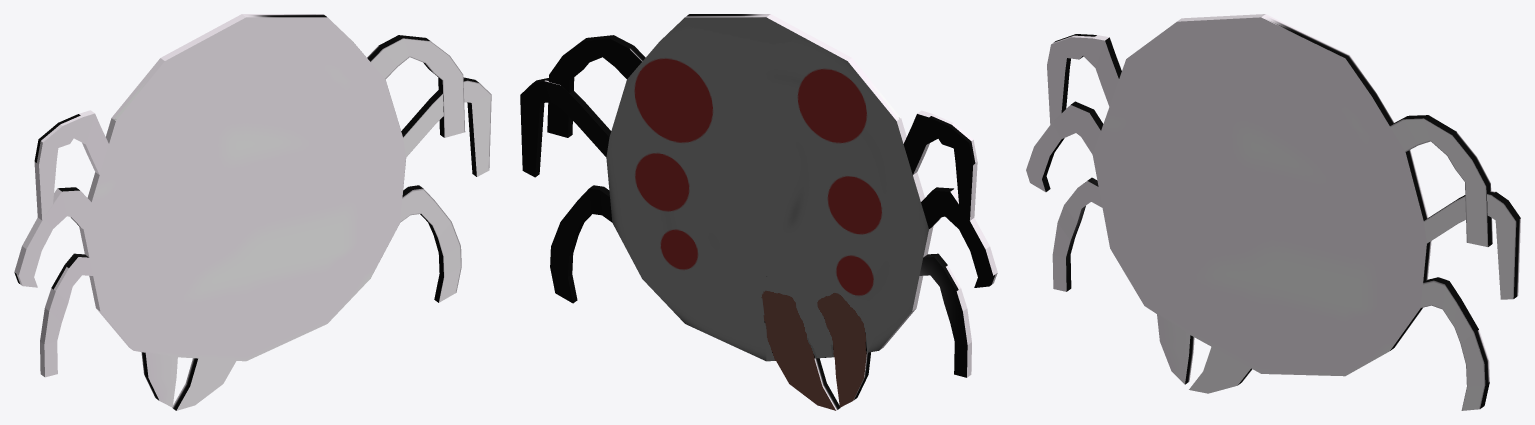
File: spiderling.gltf
The picture shows the model from 3 angles, left to right: view 1: azimuth 30°, elevation 25°; view 2: azimuth 150°, elevation 25°; view 3: azimuth 330°, elevation 25°; orthographic projection. The views are drawn at different scales.
Visible parts, largest first — view 1: Cube; view 2: Cube; view 3: Cube.
Part boxes in pixels (x1=…): Cube: x1=14, y1=14, x2=491, y2=410; Cube: x1=520, y1=14, x2=997, y2=410; Cube: x1=1026, y1=14, x2=1520, y2=410.
Size of the model in its own units: 3.54 by 2.69 by 0.0632.
Materials: 1 (1 with a texture image).
